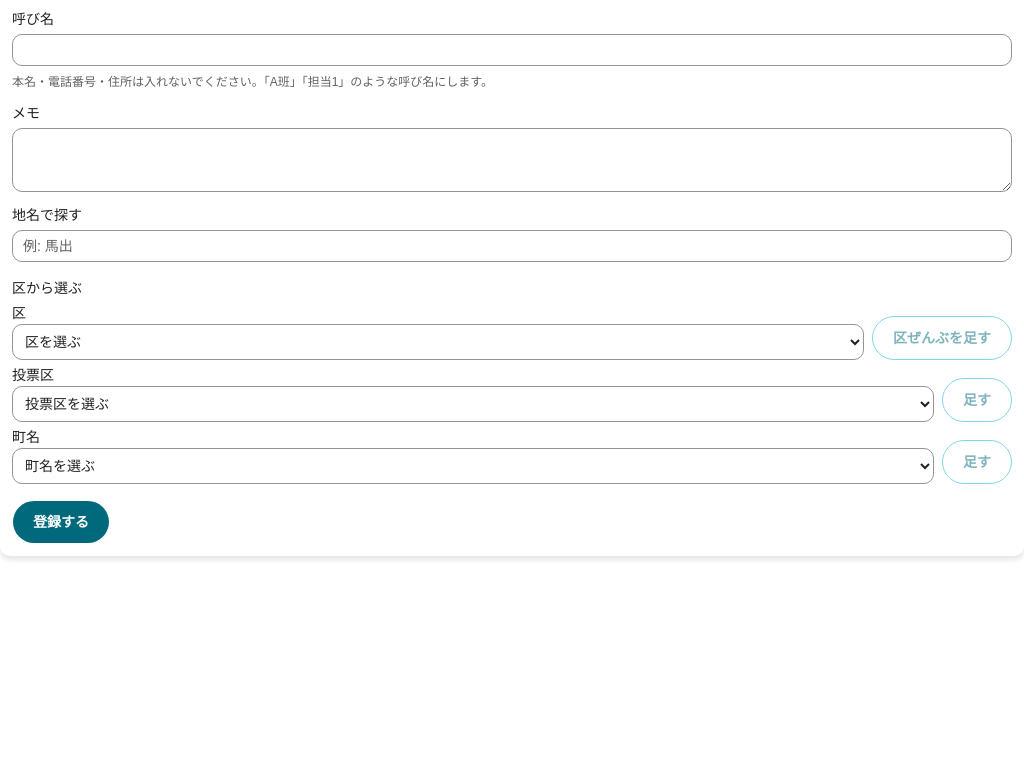
Test: 候補が上限で切れたら、残りの件数を知らせる
Step 1. Type "町" into the field labelled "地名で探す" → (512, 246), box [12, 230, 1012, 262]
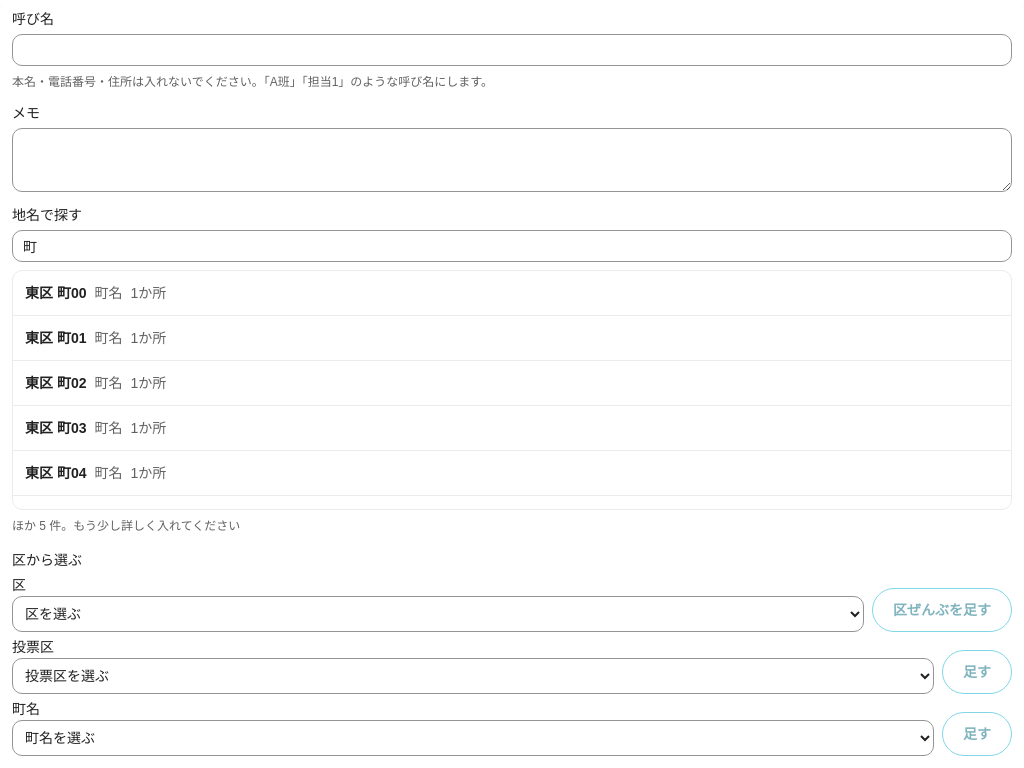
Expected: the number of buttons "東区 町00 町名 1か所" is 20
Expected: the text "ほか 5 件。もう少し詳しく入れてください" is shown, [12, 519, 240, 533]
Step 2. Replace the text in the field labelled "地名で探す" with "町00" → (512, 246), box [12, 230, 1012, 262]
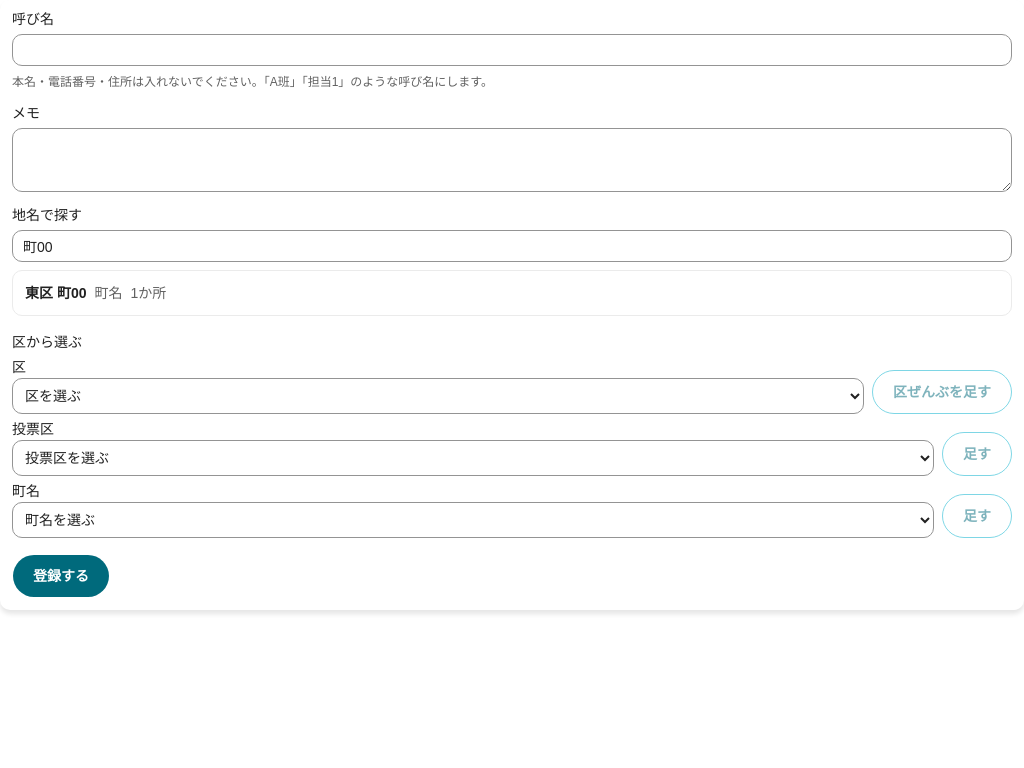
Expected: the text "もう少し詳しく" is gone
